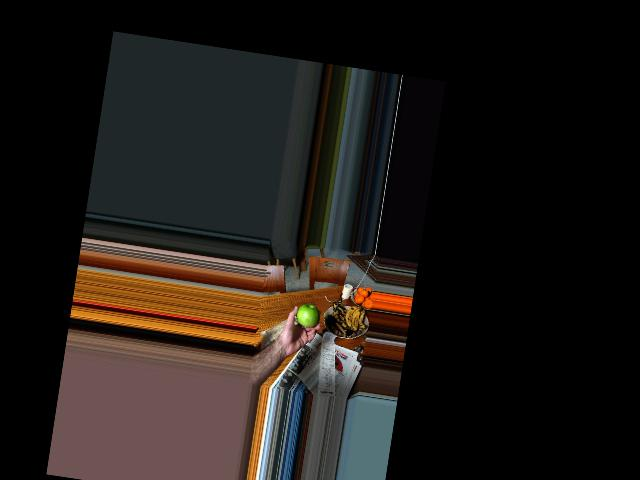apple: (293, 302, 317, 328)
